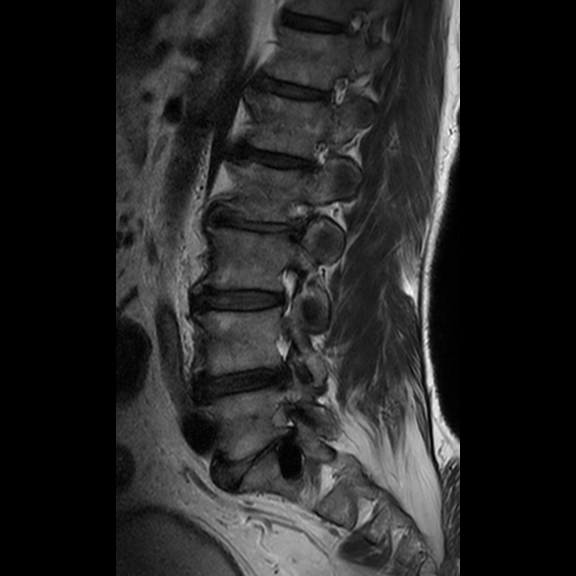LFS0: (265, 256, 317, 326)
